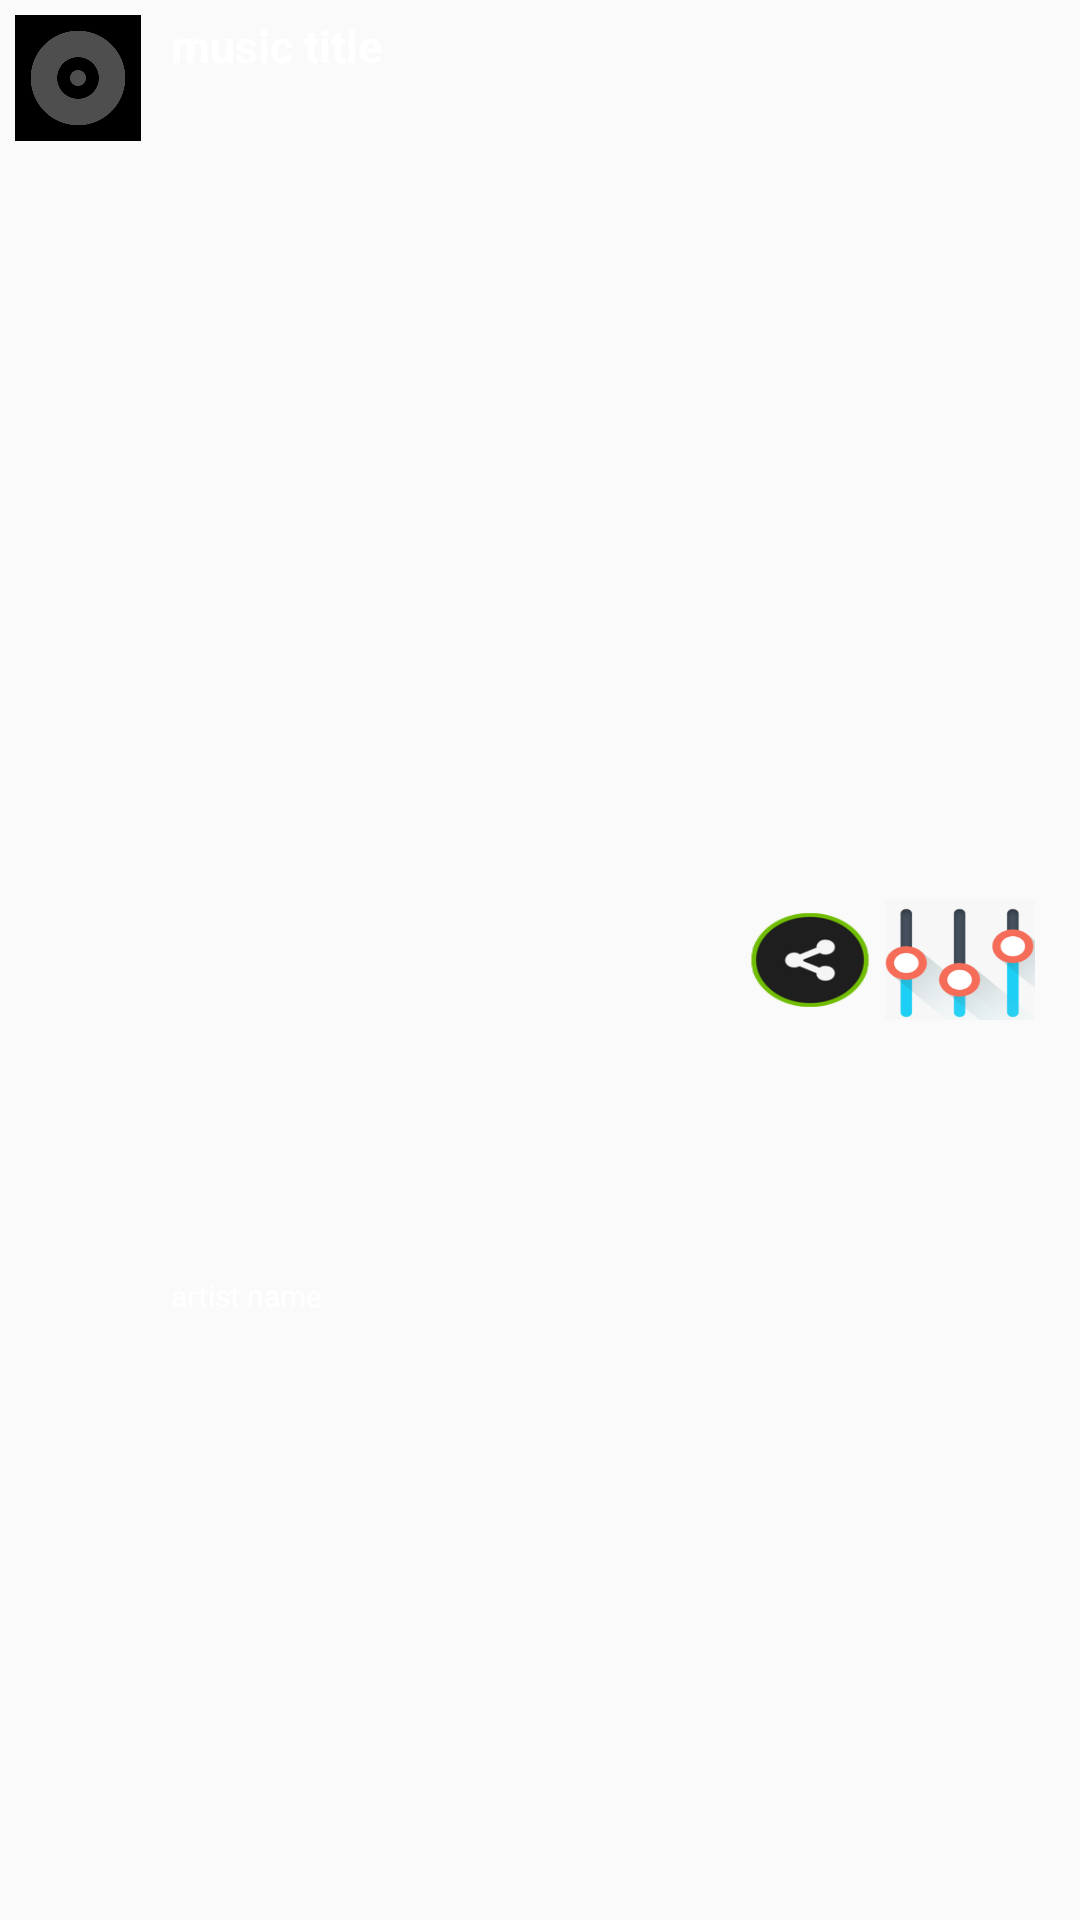

Locate icon controls on the screen. Image size 1080×1920, boxes as (x1, y1, x2, y2).
album artwork: (15, 15, 141, 141)
